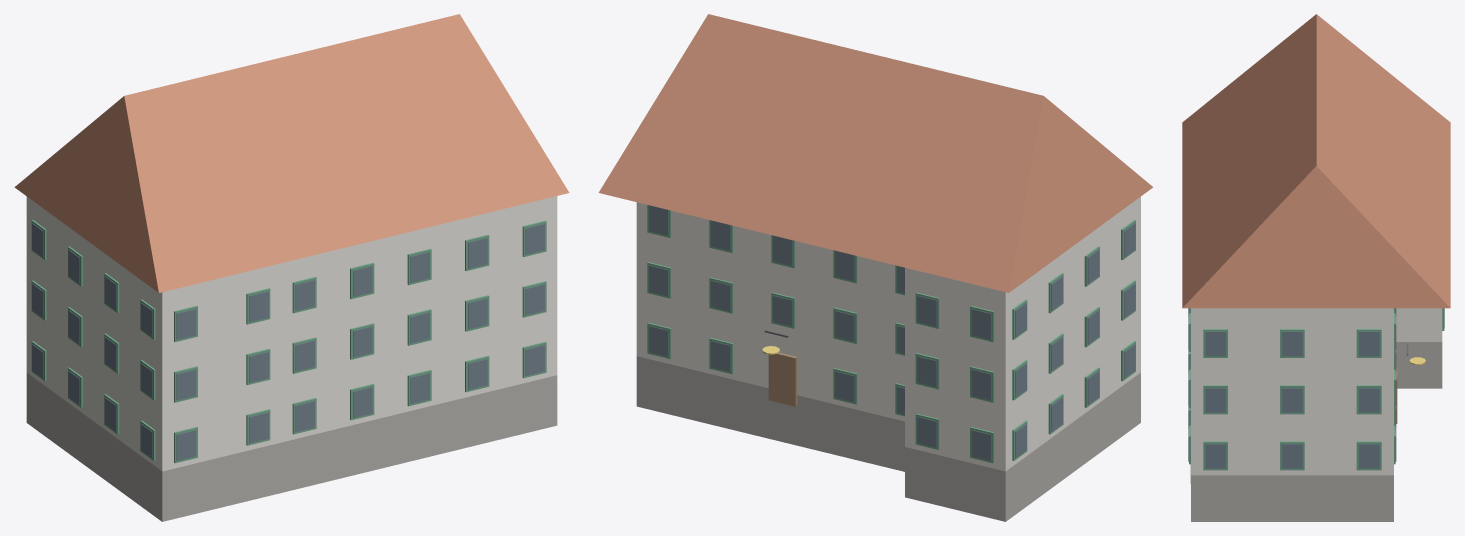
The model's file is inn-gasthaus-hirschen.glb.
The picture shows the model from 3 angles, left to right: view 1: azimuth 30°, elevation 25°; view 2: azimuth 150°, elevation 25°; view 3: azimuth 270°, elevation 25°; orthographic projection. The views are drawn at different scales.
Parts seen in each view (by area): view 1: building; view 2: building; view 3: building.
Boxes of the visible parts, left/top/right/bottom form: building: left=14, top=14, right=569, bottom=521; building: left=598, top=14, right=1153, bottom=521; building: left=1182, top=14, right=1450, bottom=521.
Bounding box in the file's own units: 21.29 × 18.3 × 12.98.
